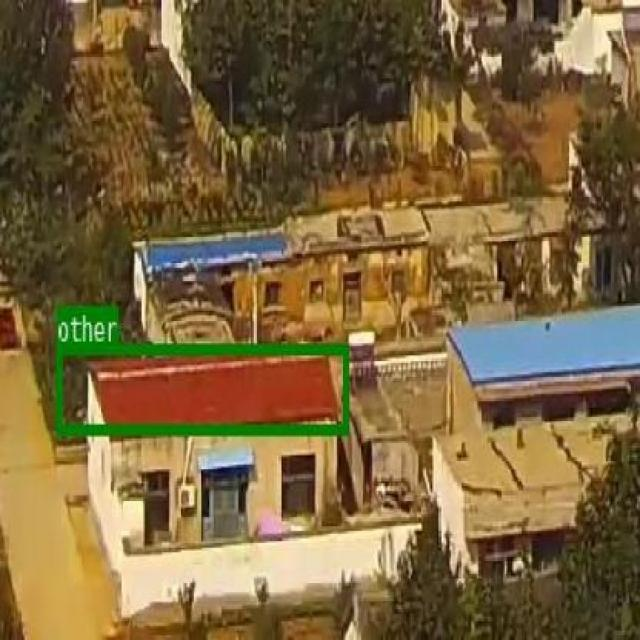other: (55, 343, 348, 432)
